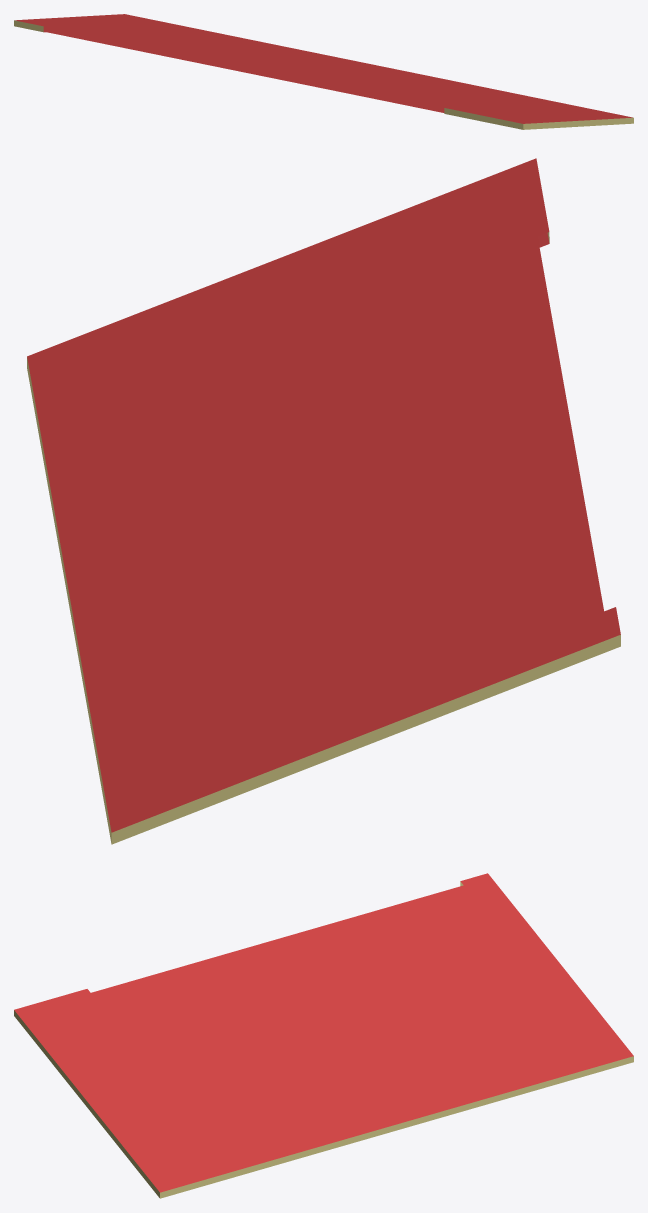
The picture shows the model from 3 angles, top to bottom: view 1: azimuth 30°, elevation 25°; view 2: azimuth 150°, elevation 25°; view 3: azimuth 270°, elevation 25°; orthographic projection. The views are drawn at different scales.
Size of the model in its own units: 8.03 by 9.26 by 1.62.
